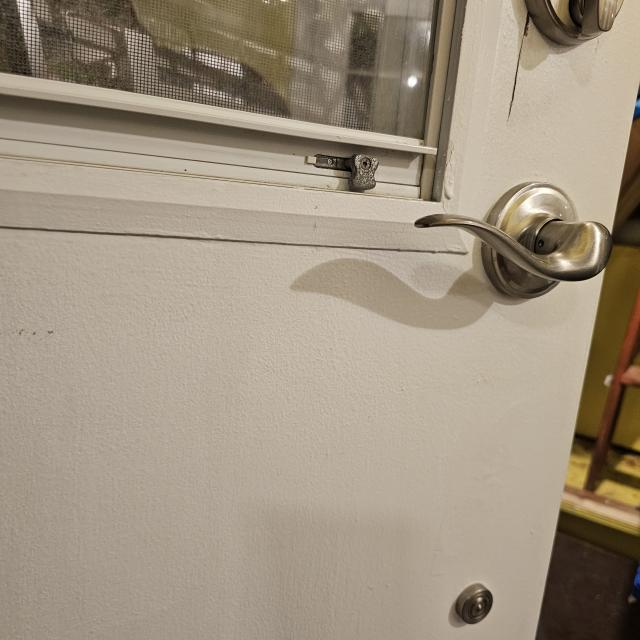door-handle: (415, 182, 611, 299)
